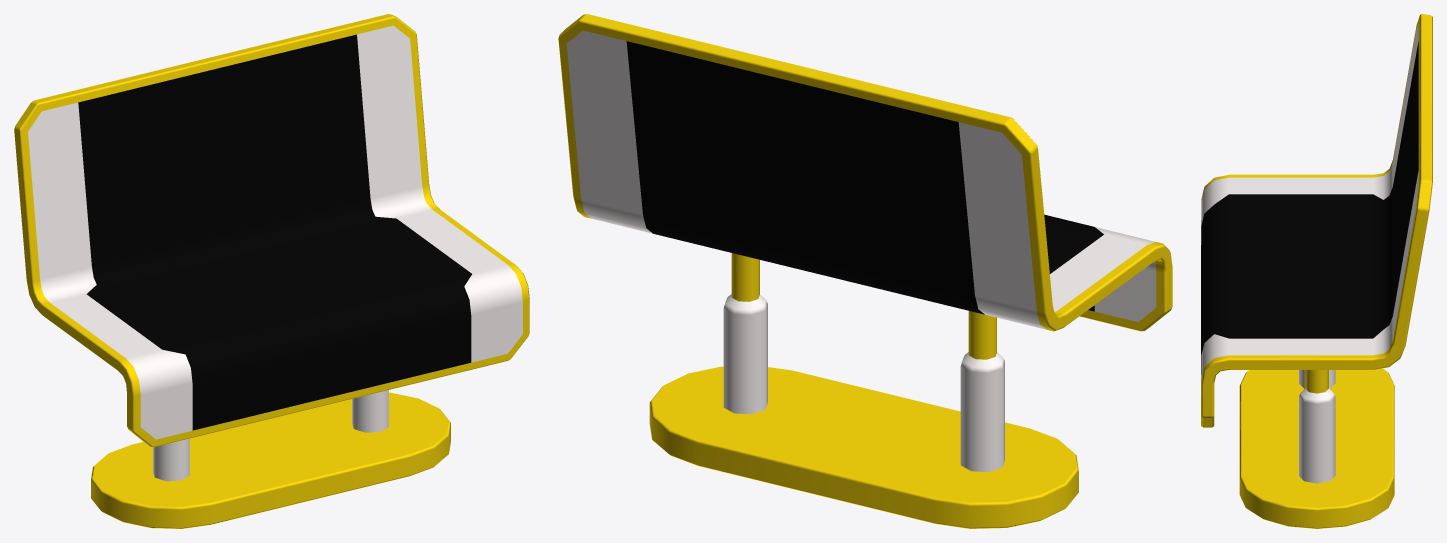
The model's file is DoubleBench.fbx.
The picture shows the model from 3 angles, left to right: view 1: azimuth 30°, elevation 25°; view 2: azimuth 150°, elevation 25°; view 3: azimuth 270°, elevation 25°; orthographic projection. The views are drawn at different scales.
Parts seen in each view (by area): view 1: Chair003; view 2: Chair003; view 3: Chair003.
Boxes of the visible parts, x1=… form: Chair003: x1=14, y1=14, x2=529, y2=528; Chair003: x1=558, y1=14, x2=1172, y2=528; Chair003: x1=1201, y1=14, x2=1432, y2=528.
Size of the model in its own units: 307 by 274 by 162.
